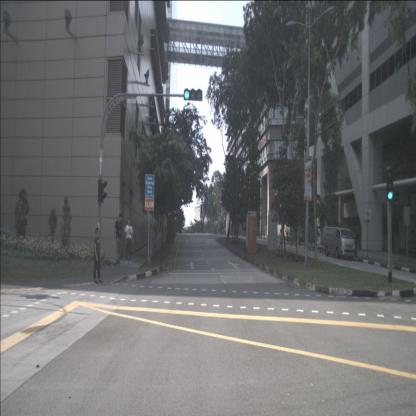human-pedestrian-adult: (112, 212, 124, 264), (93, 227, 103, 283), (124, 218, 134, 264), (353, 229, 359, 257), (286, 229, 289, 242)
vehicle-car: (323, 226, 356, 259)
